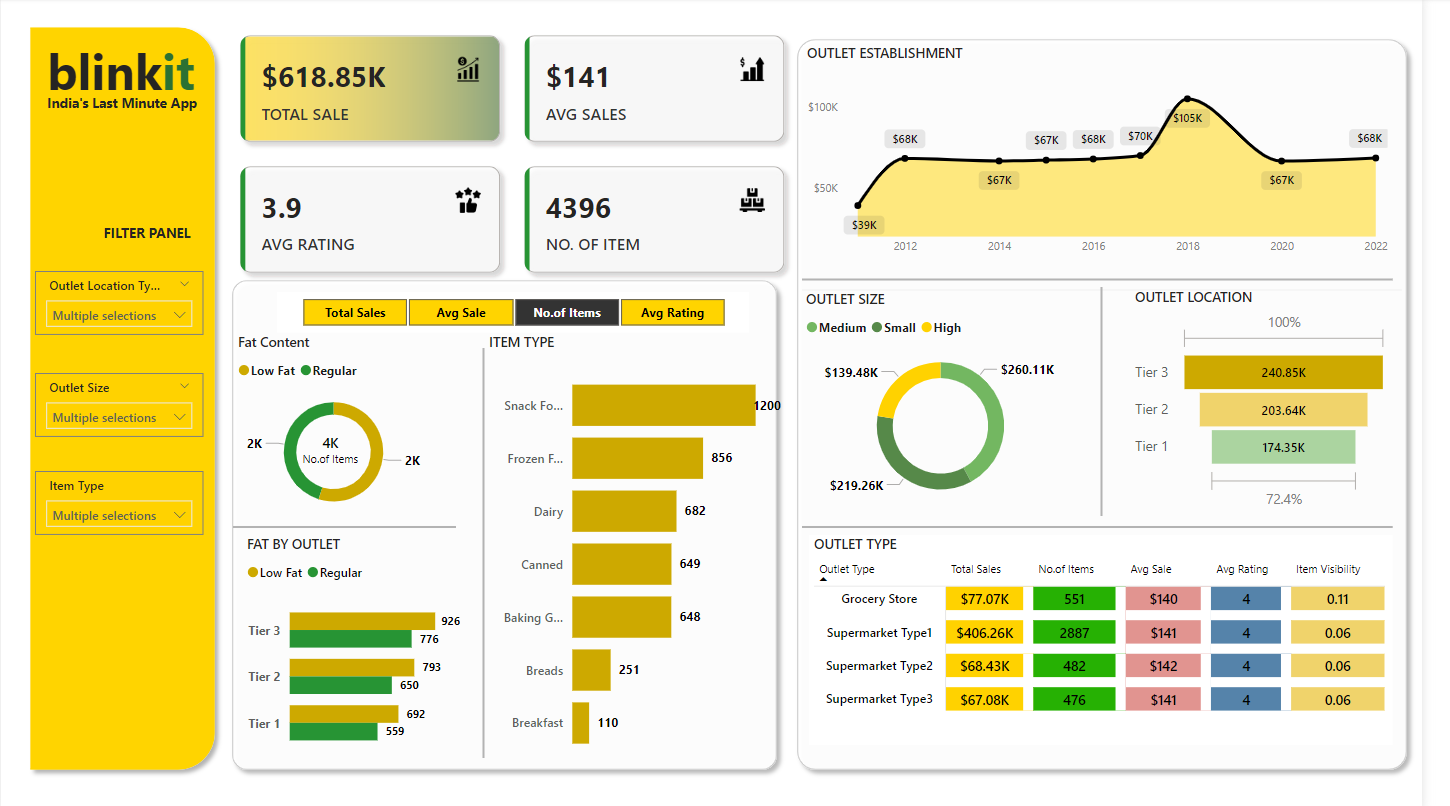

This screenshot's page, from the dashboard's own definition file:
{"tool":"powerbi","page":{"name":"Page 1","canvas":[1400,800],"ordinal":0},"visuals":[{"type":"shape","box":[18.7,19.7,200,750],"z":0},{"type":"textbox","box":[33.5,33.5,169.5,82.8],"z":1000},{"type":"textbox","box":[35.5,89.7,167.5,26.6],"z":2000},{"type":"cardVisual","fields":{"Data":["BlinkIT Grocery Data.Total Sales","BlinkIT Grocery Data.Avg Sale","BlinkIT Grocery Data.Avg Rating","BlinkIT Grocery Data.No.of Items"]},"box":[218.7,19.7,570.4,270],"z":3000},{"type":"shape","box":[218.7,269,554.7,500.5],"z":4000},{"type":"donutChart","title":"Fat Content ","fields":{"Y":["BlinkIT Grocery Data.Total Sales"],"Category":["BlinkIT Grocery Data.Item Fat Content"]},"box":[228.6,330,198,189.2],"z":5000},{"type":"slicer","fields":{"Values":["Metrics.Metrics"]},"box":[271.9,289.7,465,40.4],"z":6000},{"type":"cardVisual","fields":{"Data":["BlinkIT Grocery Data.Total Sales"]},"box":[271.9,408.9,105.4,72.9],"z":7000},{"type":"clusteredBarChart","title":"FAT BY OUTLET","fields":{"Y":["BlinkIT Grocery Data.Total Sales"],"Category":["BlinkIT Grocery Data.Outlet Location Type"],"Series":["BlinkIT Grocery Data.Item Fat Content"]},"box":[237.4,529.1,219.7,227.6],"z":8000},{"type":"shape","box":[789.2,279.8,591.1,15.8],"z":9000},{"type":"shape","box":[426.6,344.8,97.5,403.9],"z":10000},{"type":"barChart","title":"ITEM TYPE","fields":{"Y":["BlinkIT Grocery Data.Total Sales"],"Category":["BlinkIT Grocery Data.Item Type"]},"box":[475.9,330,297.5,431.5],"z":11000},{"type":"shape","box":[775.4,31.5,618.7,737.9],"z":12000},{"type":"lineChart","title":"OUTLET ESTABLISHMENT","fields":{"Category":["BlinkIT Grocery Data.Outlet Establishment Year"],"Y":["BlinkIT Grocery Data.Total Sales"]},"box":[789.2,45.3,582.3,217.7],"z":13000},{"type":"shape","box":[228.6,513.3,219.7,15.8],"z":14000},{"type":"donutChart","title":"OUTLET SIZE","fields":{"Y":["BlinkIT Grocery Data.Total Sales"],"Category":["BlinkIT Grocery Data.Outlet Size"]},"box":[788.2,287.7,274.9,222.7],"z":15000},{"type":"shape","box":[1070.9,284.7,26.6,225.6],"z":16000},{"type":"funnel","title":"OUTLET LOCATION","fields":{"Y":["Sum(BlinkIT Grocery Data.Sales)"],"Category":["BlinkIT Grocery Data.Outlet Location Type"]},"box":[1112.3,285.7,259.1,222.7],"z":17000},{"type":"shape","box":[789.2,269,582.3,16.7],"z":18000},{"type":"shape","box":[789.2,513.3,582.3,15.8],"z":19000},{"type":"pivotTable","title":"OUTLET TYPE","fields":{"Rows":["BlinkIT Grocery Data.Outlet Type"],"Values":["BlinkIT Grocery Data.Total Sales","BlinkIT Grocery Data.No.of Items","BlinkIT Grocery Data.Avg Sale","BlinkIT Grocery Data.Avg Rating","Avg(BlinkIT Grocery Data.Item Visibility)"]},"box":[796.1,529.1,575.4,206.9],"z":20000},{"type":"slicer","fields":{"Values":["BlinkIT Grocery Data.Outlet Location Type"]},"box":[35.5,200,165.5,63.1],"z":21000},{"type":"slicer","fields":{"Values":["BlinkIT Grocery Data.Outlet Size"]},"box":[33.5,284.7,165.5,63.1],"z":22000},{"type":"slicer","fields":{"Values":["BlinkIT Grocery Data.Item Type"]},"box":[36.5,367.5,165.5,63.1],"z":22001}]}

Visuals, with their boxes in screenshot pixels (x1, y1, x2, y2), scaled from the page's 1400x800 canvas onto the 1450x806 screenshot:
shape: BBox(19, 20, 227, 775)
textbox: BBox(35, 34, 210, 117)
textbox: BBox(37, 90, 210, 117)
cardVisual - BlinkIT Grocery Data.Total Sales x BlinkIT Grocery Data.Avg Sale: BBox(227, 20, 817, 292)
shape: BBox(227, 271, 801, 775)
"Fat Content " donutChart: BBox(237, 332, 442, 523)
slicer - Metrics.Metrics: BBox(282, 292, 763, 333)
cardVisual - BlinkIT Grocery Data.Total Sales: BBox(282, 412, 391, 485)
"FAT BY OUTLET" clusteredBarChart: BBox(246, 533, 473, 762)
shape: BBox(817, 282, 1430, 298)
shape: BBox(442, 347, 543, 754)
"ITEM TYPE" barChart: BBox(493, 332, 801, 767)
shape: BBox(803, 32, 1444, 775)
"OUTLET ESTABLISHMENT" lineChart: BBox(817, 46, 1420, 265)
shape: BBox(237, 517, 464, 533)
"OUTLET SIZE" donutChart: BBox(816, 290, 1101, 514)
shape: BBox(1109, 287, 1137, 514)
"OUTLET LOCATION" funnel: BBox(1152, 288, 1420, 512)
shape: BBox(817, 271, 1420, 288)
shape: BBox(817, 517, 1420, 533)
"OUTLET TYPE" pivotTable: BBox(825, 533, 1420, 742)
slicer - BlinkIT Grocery Data.Outlet Location Type: BBox(37, 202, 208, 265)
slicer - BlinkIT Grocery Data.Outlet Size: BBox(35, 287, 206, 350)
slicer - BlinkIT Grocery Data.Item Type: BBox(38, 370, 209, 434)
